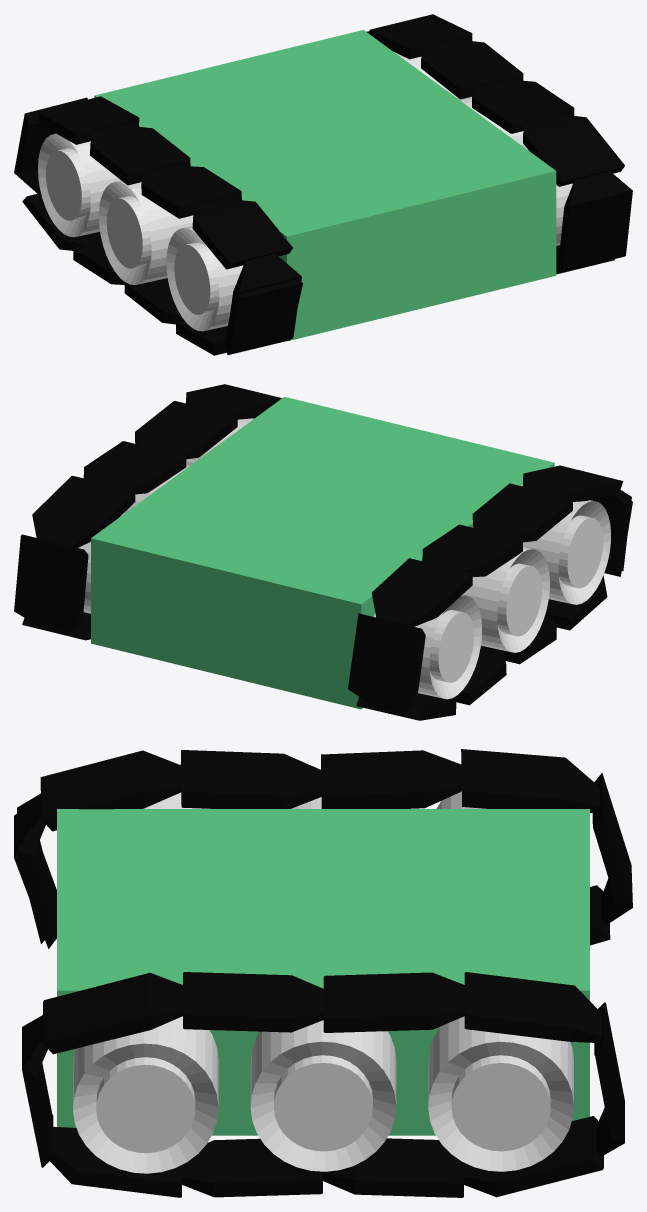
File: caterpillar.glb
3 renders of one model, top to bottom at view 1: azimuth 30°, elevation 25°; view 2: azimuth 150°, elevation 25°; view 3: azimuth 270°, elevation 25°, orthographic. The views are drawn at different scales.
Parts seen in each view (by area): view 1: 立方体.002, 立方体.001, 立方体, 円柱.004, 円柱.005, 円柱.006, 円柱.003; view 2: 立方体.002, 立方体.001, 立方体, 円柱.004, 円柱.006, 円柱.005; view 3: 立方体.002, 立方体, 立方体.001, 円柱.002, 円柱.003, 円柱.001.
Boxes of the visible parts, x1,y1,x2,y2 form: 立方体.002: (94, 30, 556, 341); 立方体.001: (14, 96, 302, 355); 立方体: (366, 14, 632, 274); 円柱.004: (98, 180, 193, 284); 円柱.005: (38, 133, 120, 237); 円柱.006: (166, 226, 243, 331); 円柱.003: (522, 145, 572, 245); 立方体.002: (91, 396, 554, 709); 立方体.001: (348, 465, 632, 720); 立方体: (14, 384, 281, 640); 円柱.004: (462, 547, 549, 652); 円柱.006: (523, 500, 610, 604); 円柱.005: (373, 595, 481, 699); 立方体.002: (57, 809, 589, 1135); 立方体: (22, 972, 624, 1197); 立方体.001: (14, 749, 632, 948); 円柱.002: (250, 1020, 396, 1171); 円柱.003: (73, 1016, 218, 1173); 円柱.001: (428, 1016, 573, 1171).
Size of the model in its own units: 7.23 by 2.28 by 6.97.
Materials: 3 (1 with a texture image).
